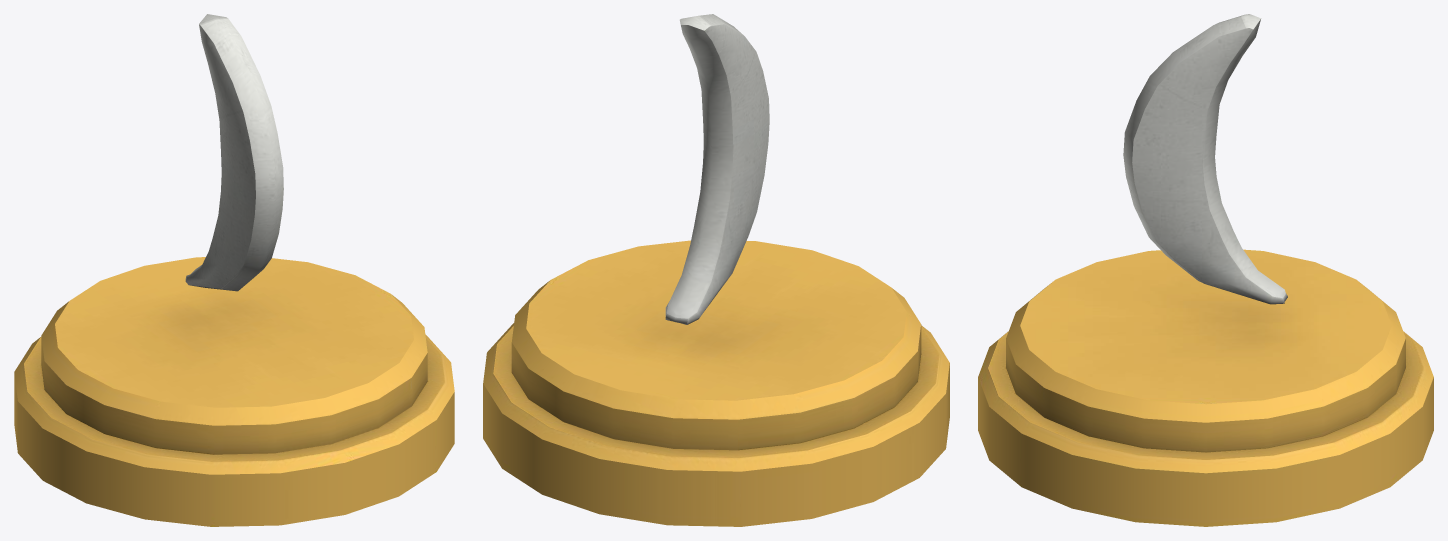
The model's file is LUAOURO.fbx.
3 views of the same model, side by side, from view 1: azimuth 30°, elevation 25°; view 2: azimuth 150°, elevation 25°; view 3: azimuth 270°, elevation 25° (orthographic). The views are drawn at different scales.
Visible parts, largest first — view 1: polySurface79, polySurface78; view 2: polySurface79, polySurface78; view 3: polySurface79, polySurface78.
Part boxes in pixels (bbox=[...]): polySurface79: bbox=[14, 257, 454, 526]; polySurface78: bbox=[185, 14, 283, 291]; polySurface79: bbox=[483, 240, 949, 526]; polySurface78: bbox=[665, 14, 769, 324]; polySurface79: bbox=[978, 249, 1433, 526]; polySurface78: bbox=[1123, 14, 1287, 304].
Bounding box in the file's own units: 0.4773 × 0.4784 × 0.4773.
Materials: 1 (1 with a texture image).
